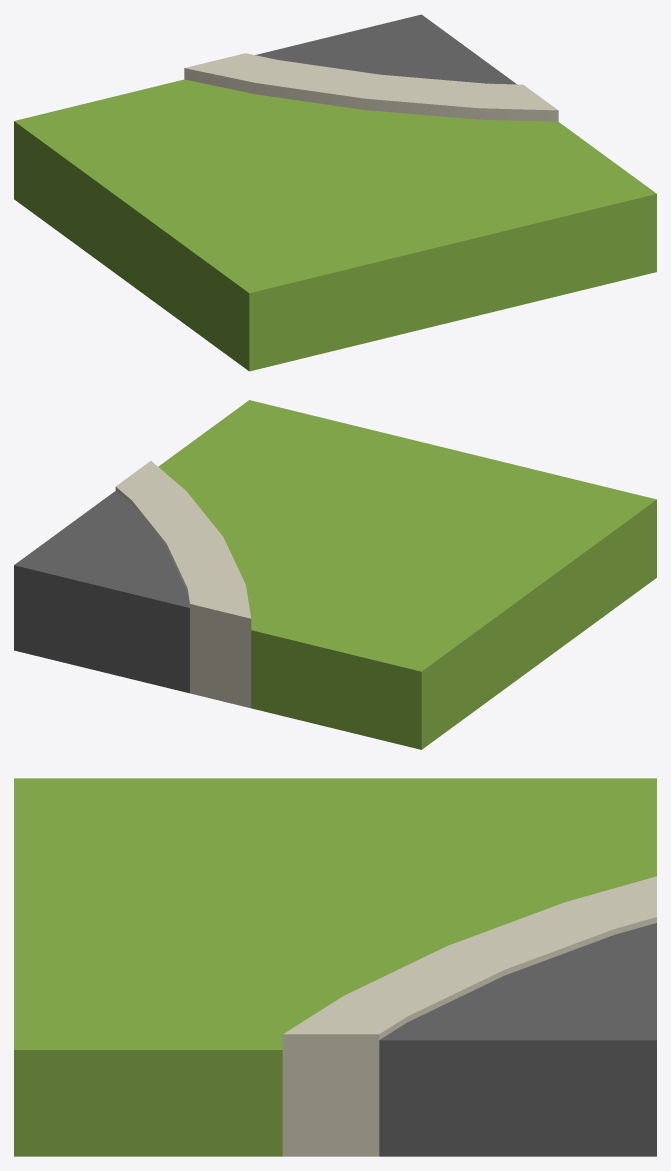
Rendered from roadTile_144.obj.
3 renders of one model, top to bottom at view 1: azimuth 30°, elevation 25°; view 2: azimuth 150°, elevation 25°; view 3: azimuth 270°, elevation 25°, orthographic. The views are drawn at different scales.
Visible parts, largest first — view 1: roadTile_144; view 2: roadTile_144; view 3: roadTile_144.
Part boxes in pixels (x1,y1,x2,y2): roadTile_144: (14,14,656,371); roadTile_144: (14,400,656,749); roadTile_144: (14,778,656,1156).
Bounding box in the file's own units: 3 × 0.63 × 3.
